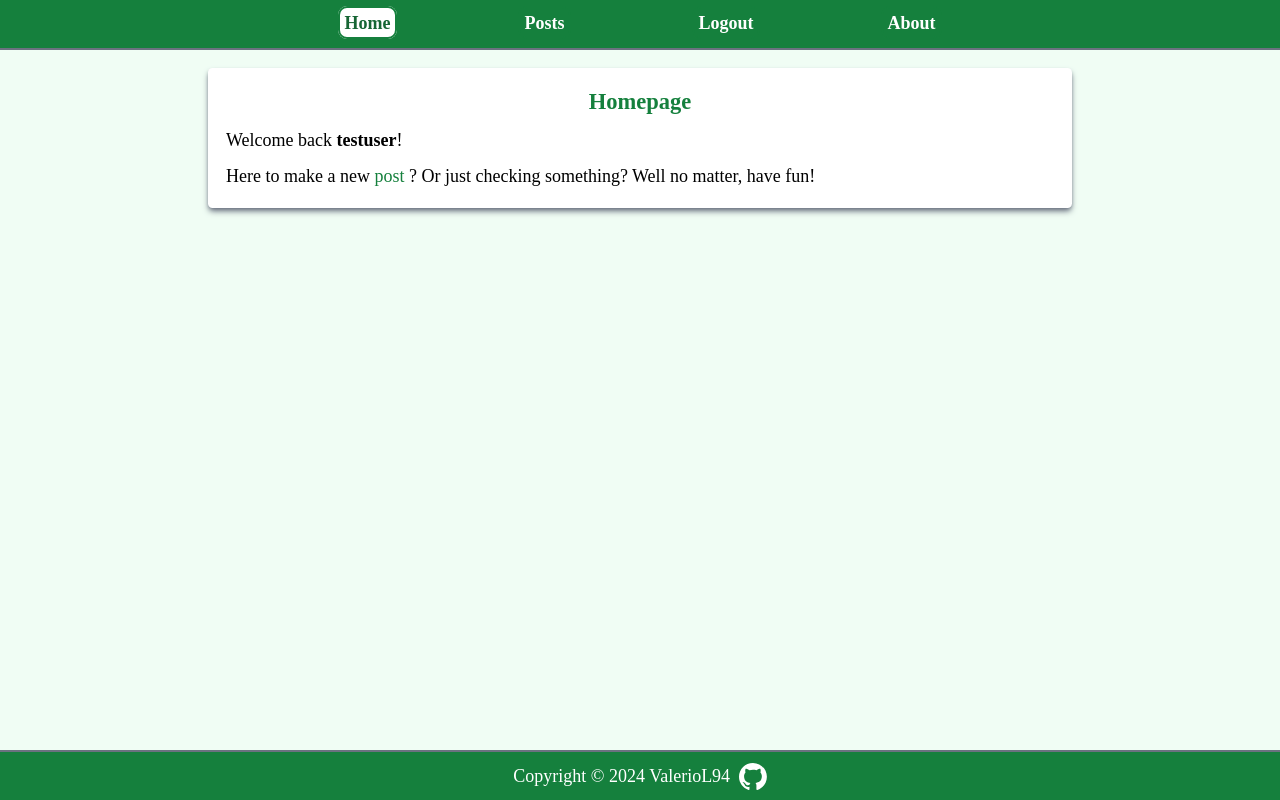
navbar component tests › auth rendering/navigating › posts link rendering/navigating
This screenshot has width=1280, height=800.
Click the link "Posts" at (544, 22), box [518,6,571,38]
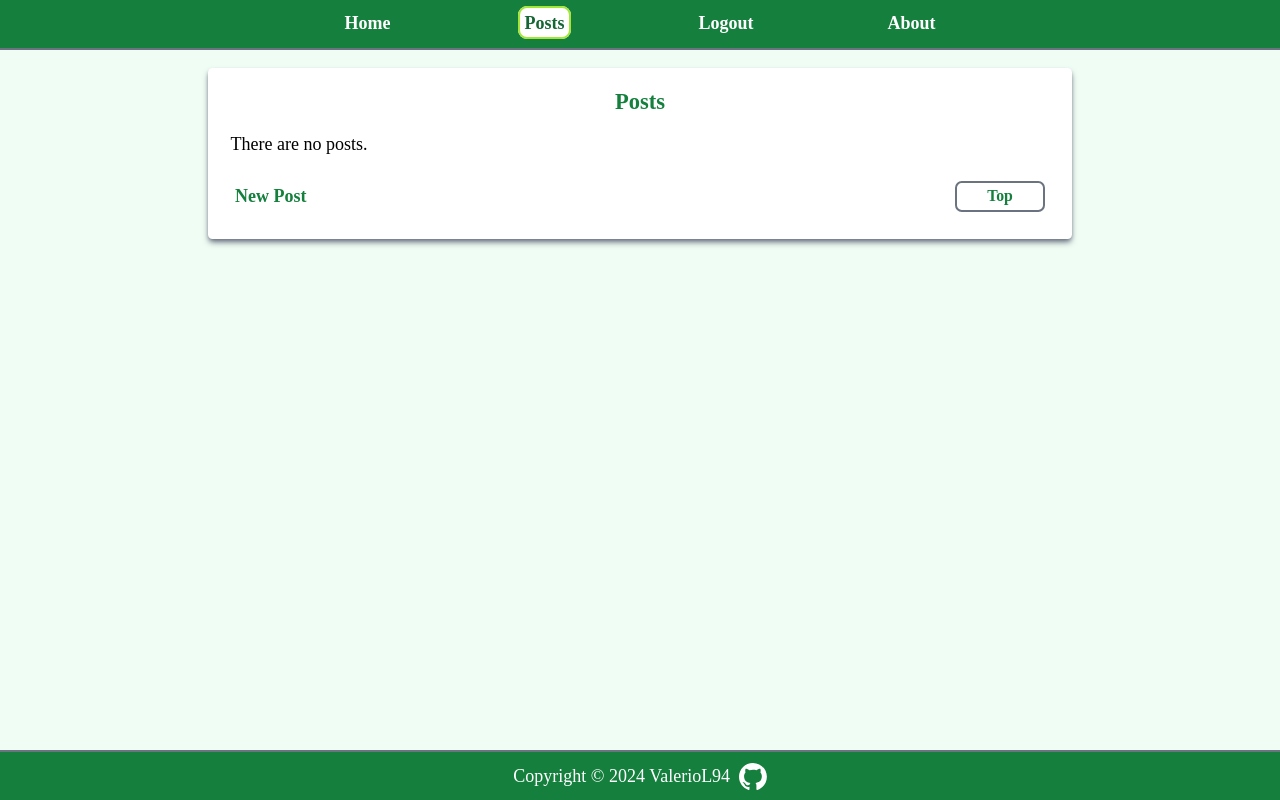
Expected: the heading "Posts" is shown, [615,89,665,114]
